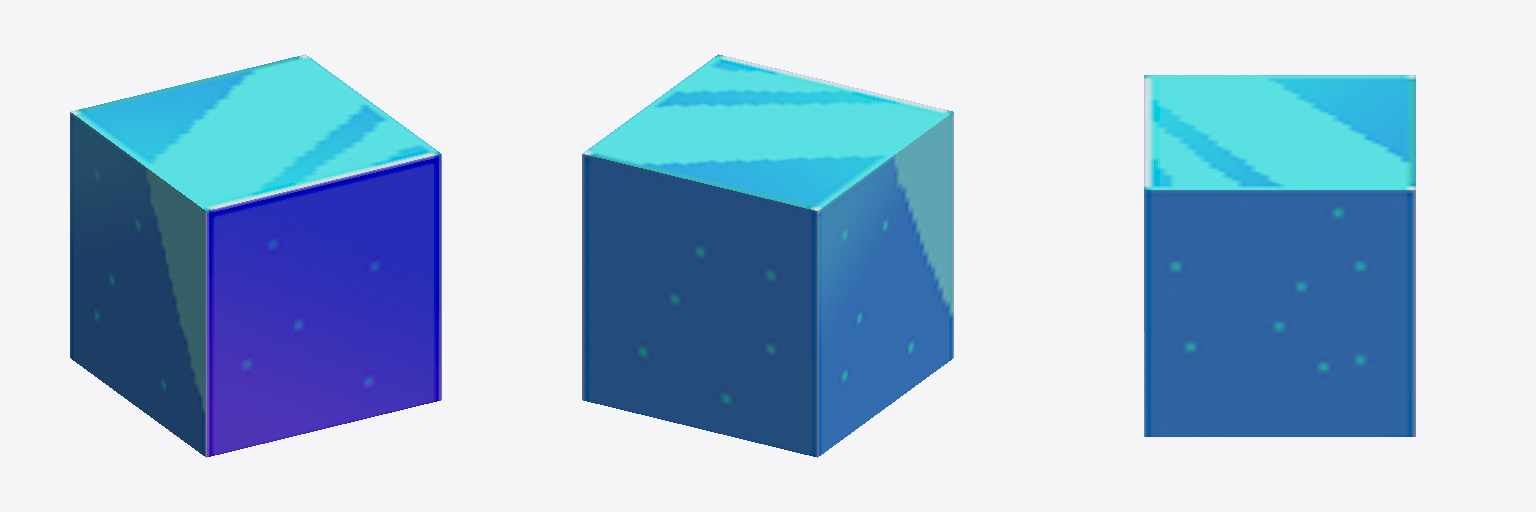
3 views of the same model, side by side, from view 1: azimuth 30°, elevation 25°; view 2: azimuth 150°, elevation 25°; view 3: azimuth 270°, elevation 25° (orthographic).
Visible parts, largest first — view 1: ice01; view 2: ice01; view 3: ice01.
Part boxes in pixels (x1,y1,x2,y2): ice01: (70,54,441,457); ice01: (582,54,953,457); ice01: (1144,75,1415,436).
Size of the model in its own units: 1 by 1 by 1.
Materials: 1 (1 with a texture image).